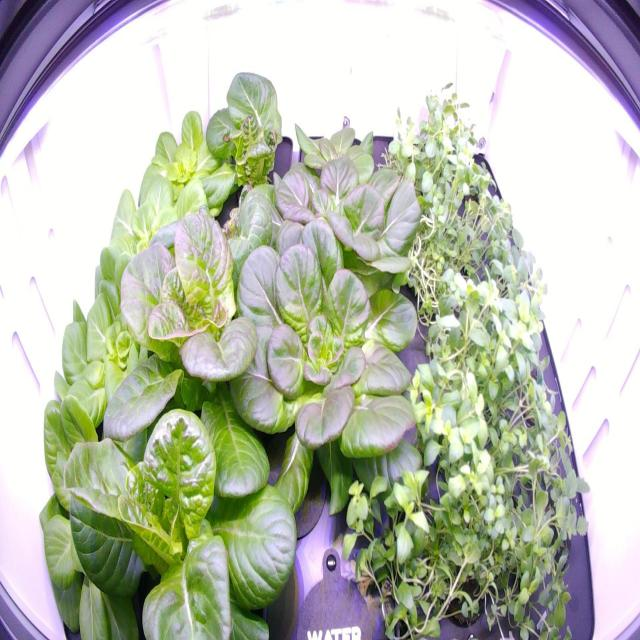Ready: (47, 361, 308, 640), (209, 204, 436, 508), (99, 183, 265, 454), (235, 154, 428, 302)
young: (35, 391, 178, 638), (39, 237, 192, 461), (88, 164, 219, 314), (131, 97, 243, 226), (199, 59, 289, 204), (280, 110, 382, 207)
